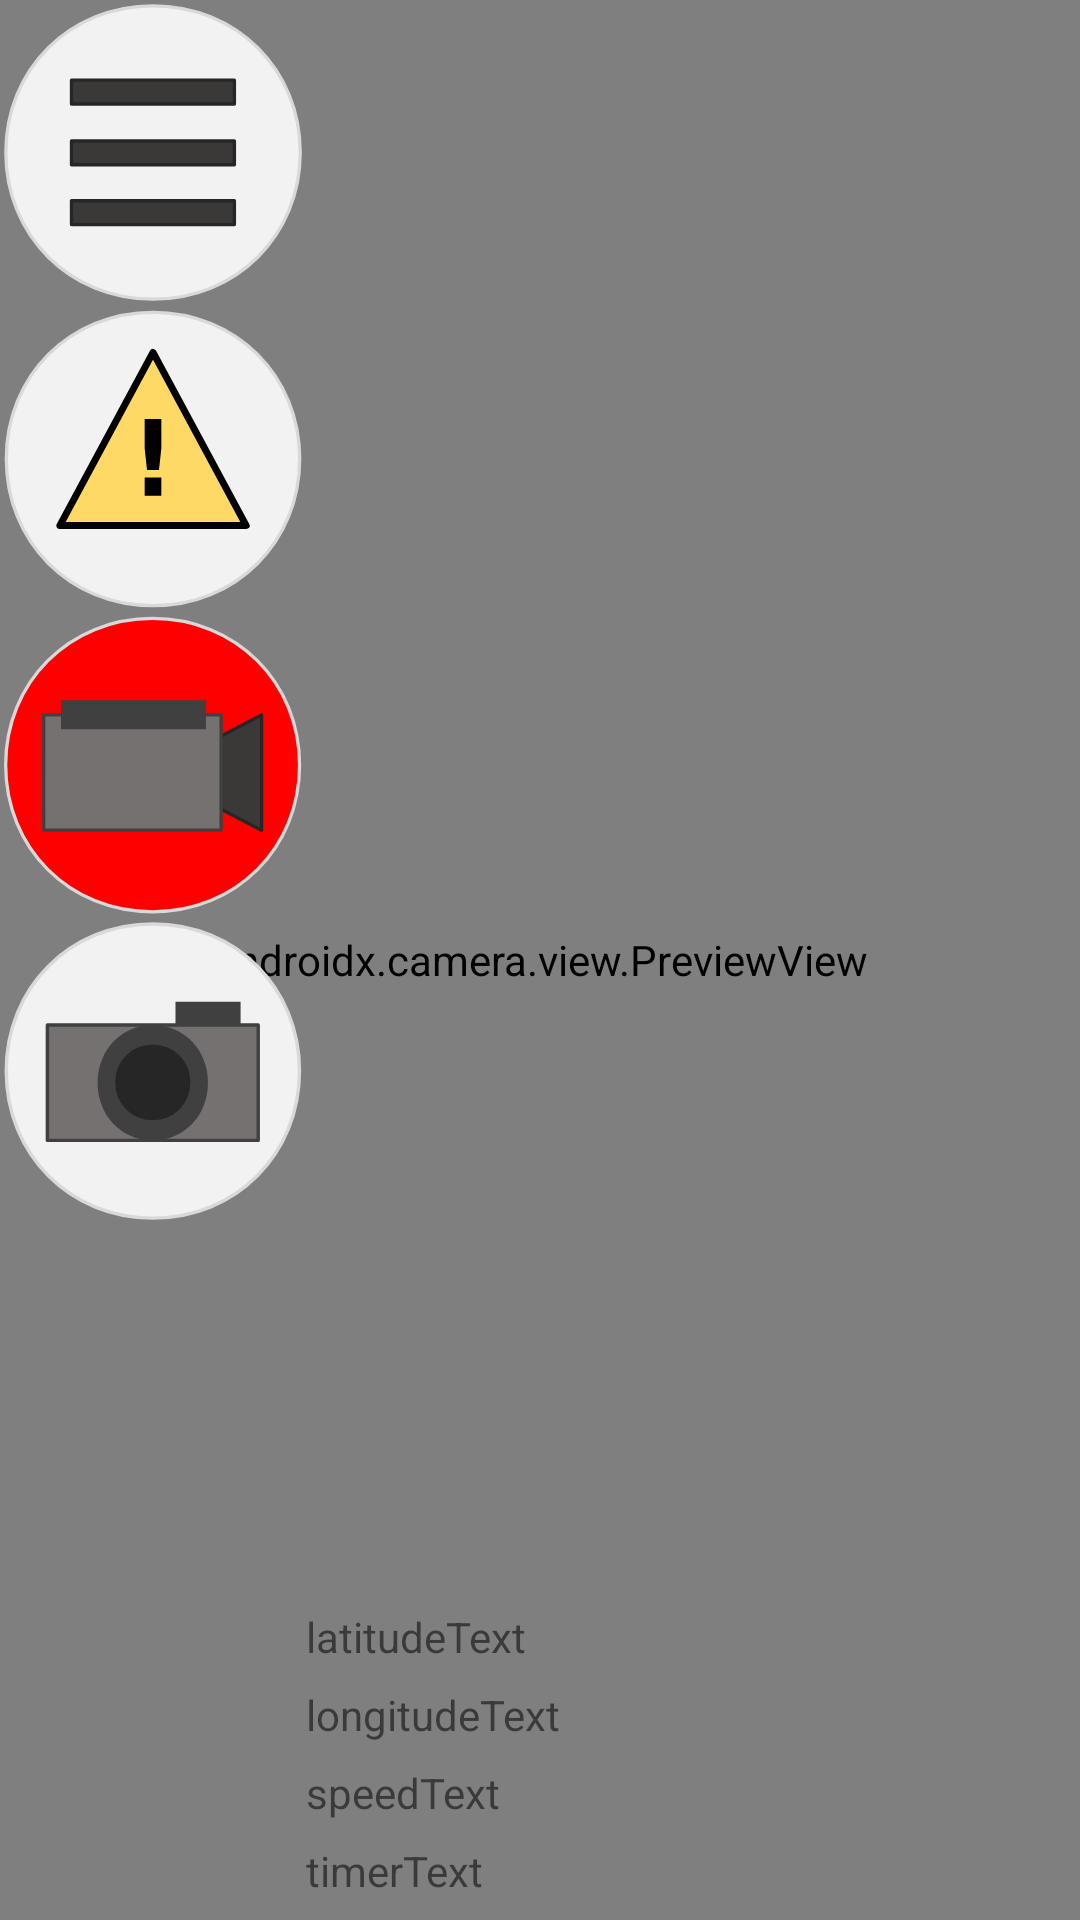

Locate icon controls on the screen. Image size 1080w x 1920h, boxes as (x1, y1, x2, y2).
emergency recording: (4, 311, 302, 607)
open menu: (4, 4, 302, 301)
take photo: (4, 922, 301, 1220)
take video: (4, 617, 301, 914)
